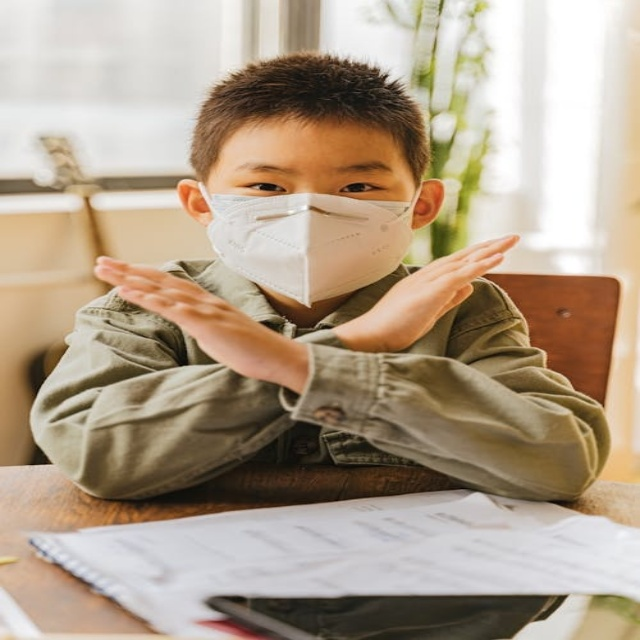Mascara: (198, 184, 420, 308)
Sin_gafas: (216, 156, 402, 200)
Sin_guantes: (95, 255, 293, 374), (348, 231, 523, 349)
